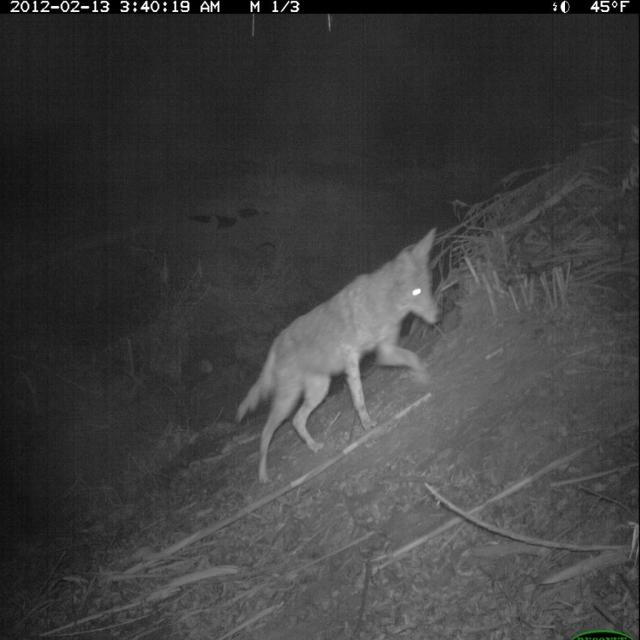coyote: (228, 218, 452, 500)
